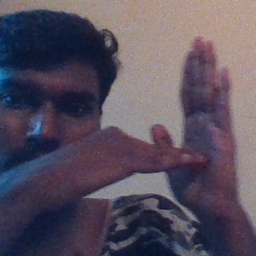Z: (116, 34, 242, 224)
